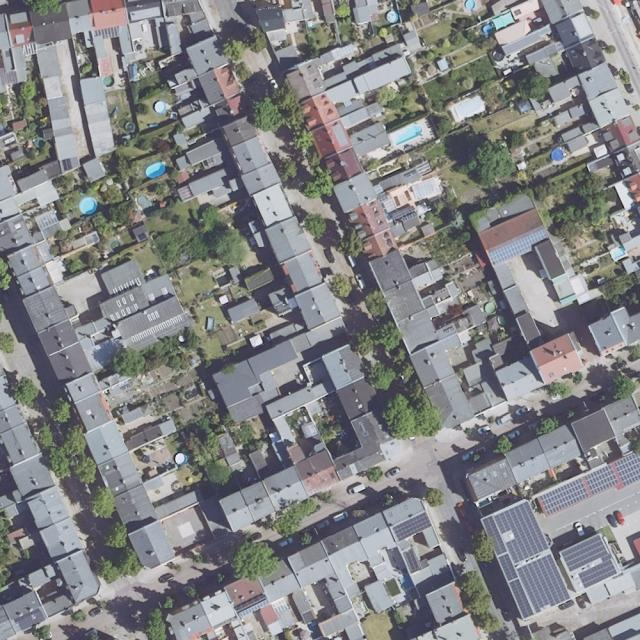PV: (499, 553, 571, 618), (482, 501, 549, 562), (561, 534, 618, 587), (488, 227, 549, 264), (539, 478, 588, 515), (392, 512, 432, 541), (585, 464, 620, 494), (615, 452, 640, 486), (238, 599, 271, 617), (390, 205, 419, 220), (403, 547, 421, 571), (94, 25, 120, 40), (416, 161, 431, 175), (403, 169, 417, 179), (378, 194, 390, 202)
ST: (443, 326, 455, 334)
